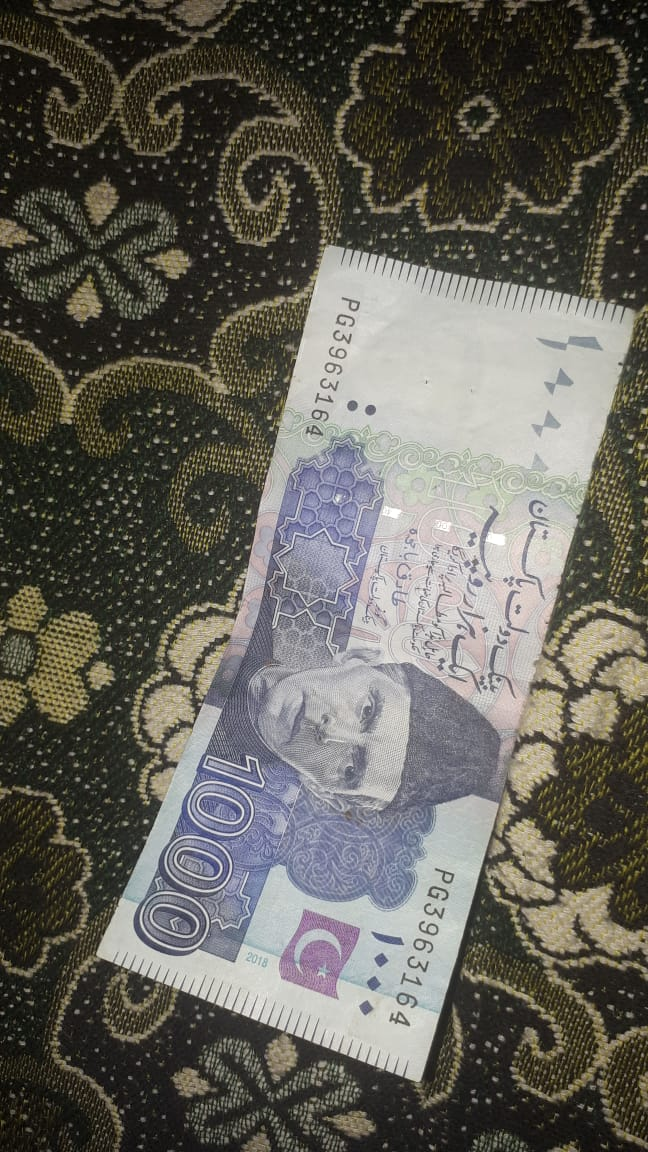1000 rupee: (72, 243, 623, 1081)
